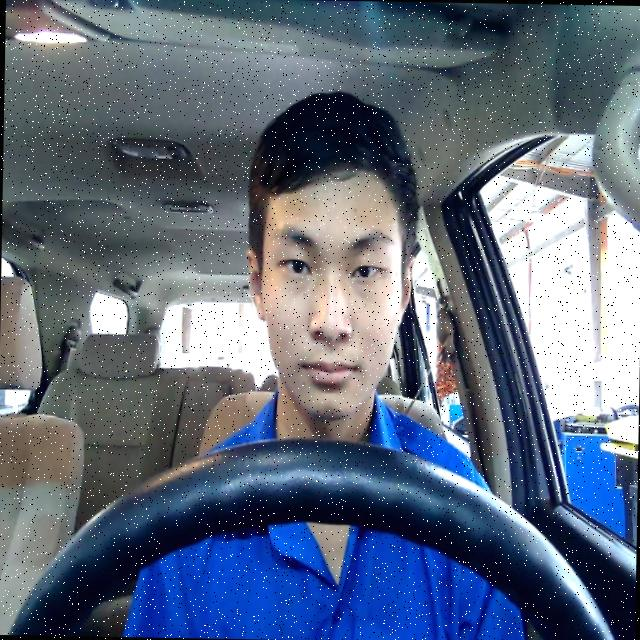focused: (243, 165, 414, 419)
